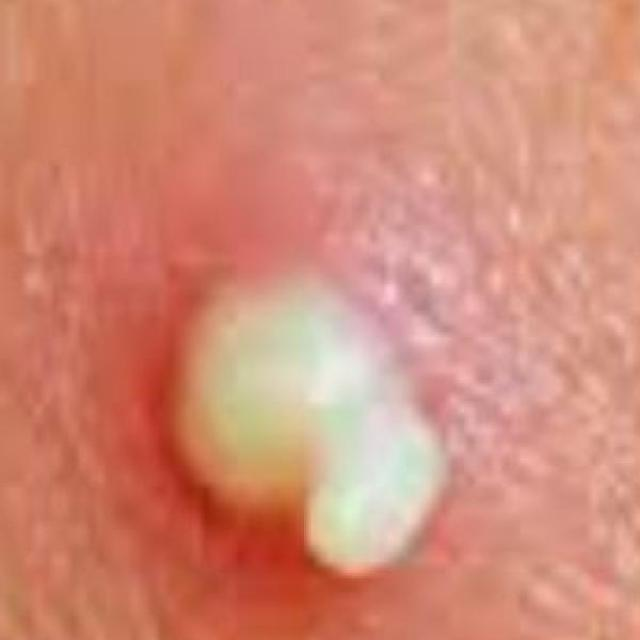pustule: (144, 261, 462, 620)
